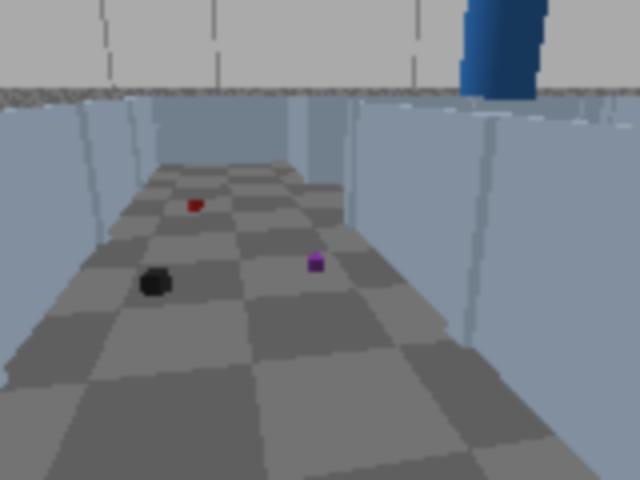puck: (140, 268, 172, 298), (306, 254, 325, 273)
